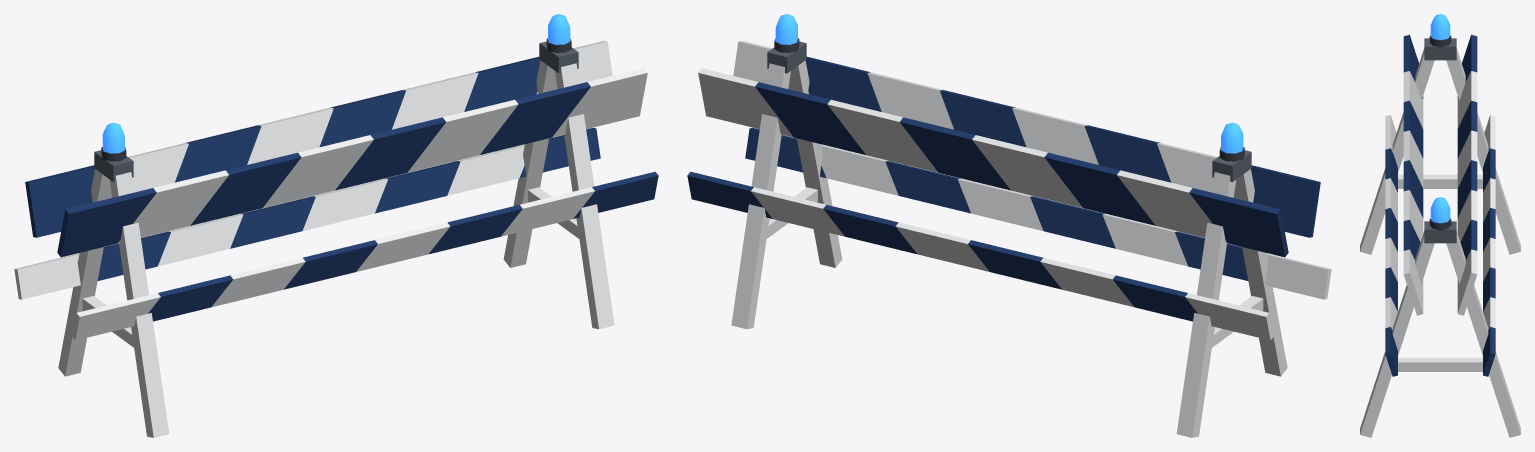
File: roadblock_police.glb
The picture shows the model from 3 angles, left to right: view 1: azimuth 30°, elevation 25°; view 2: azimuth 150°, elevation 25°; view 3: azimuth 270°, elevation 25°; orthographic projection. The views are drawn at different scales.
Visible parts, largest first — view 1: roadblock_police; view 2: roadblock_police; view 3: roadblock_police.
Part boxes in pixels (x1=…): roadblock_police: x1=14, y1=14, x2=658, y2=437; roadblock_police: x1=687, y1=14, x2=1331, y2=437; roadblock_police: x1=1360, y1=14, x2=1520, y2=437.
Size of the model in its own units: 2.6 by 1.21 by 0.7428.
